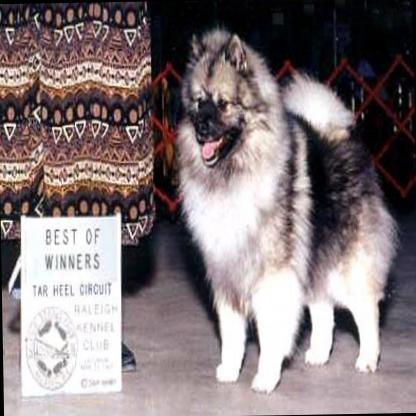keeshond: (169, 18, 400, 395)
